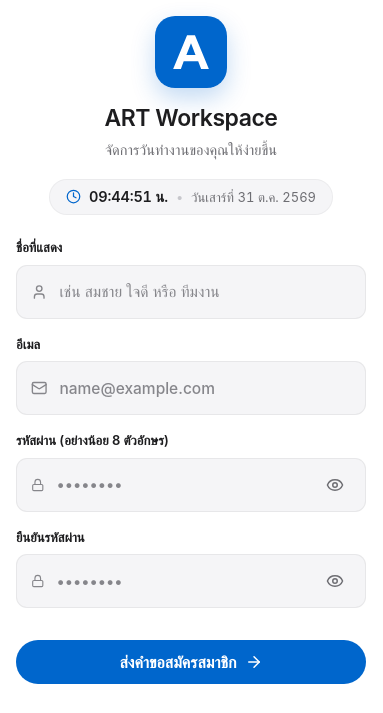
Test: RegisterPage › submits registration in approval mode and shows pending screen
In the field with placeholder "เช่น สมชาย ใจดี หรือ ทีมงาน": coordinates (208, 292) [59,268,357,316], type "สมชาย ใจดี"
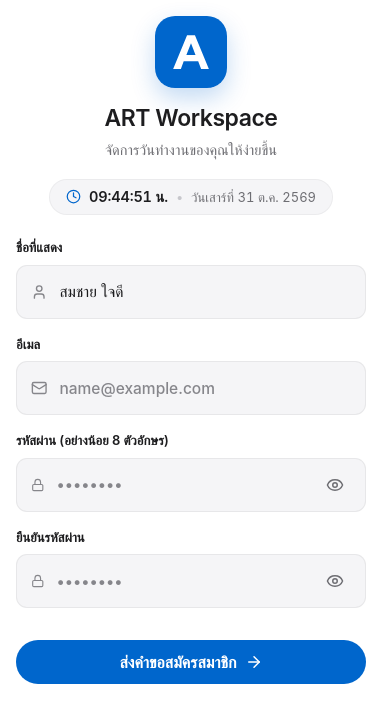
In the field with placeholder "name@example.com": coordinates (208, 388) [59,365,357,412], type "somchai@example.com"
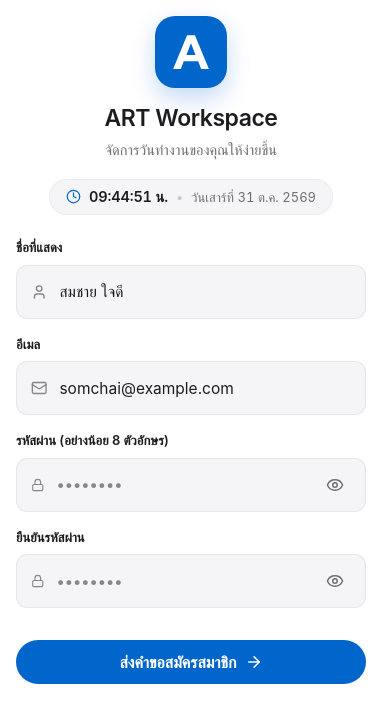
In the password field with placeholder "••••••••": coordinates (179, 485) [56,461,301,509], type "Password123!"
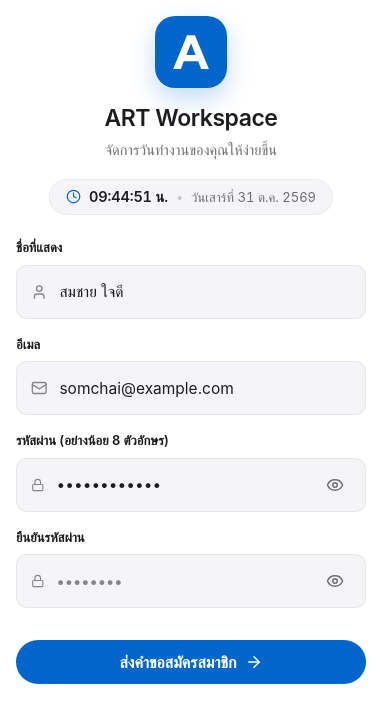
In the password field with placeholder "••••••••": coordinates (179, 581) [56,558,301,605], type "Password123!"
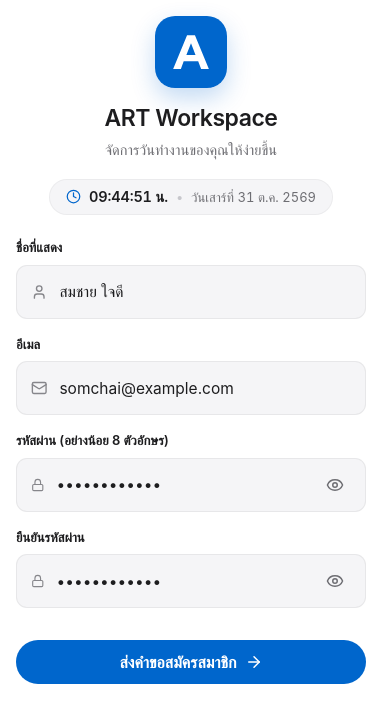
Click the button "ส่งคำขอสมัครสมาชิก": coordinates (191, 662) [16,640,366,684]
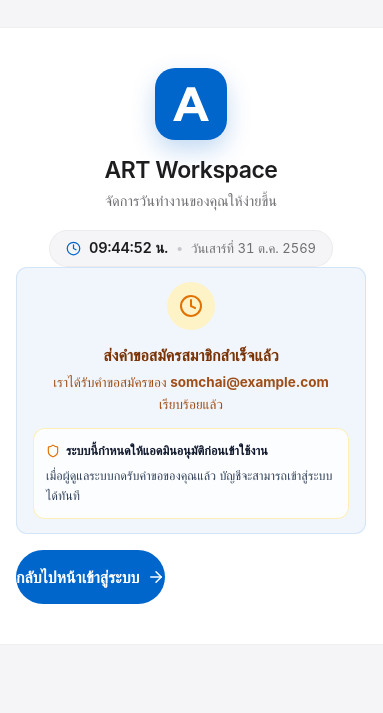
Now the text "ส่งคำขอสมัครสมาชิกสำเร็จแล้ว" is shown, box [103,342,279,368]
Now the text "ระบบนี้กำหนดให้แอดมินอนุมัติก่อนเข้าใช้งาน" is shown, box [46,443,268,458]
